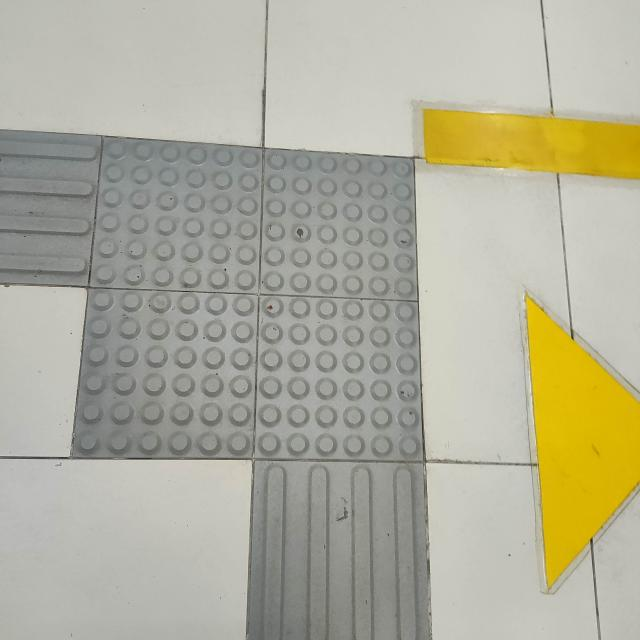kiri: (0, 74, 486, 614)
